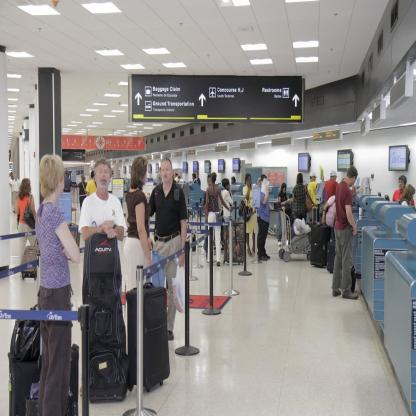airport-trolley: (278, 208, 316, 266)
